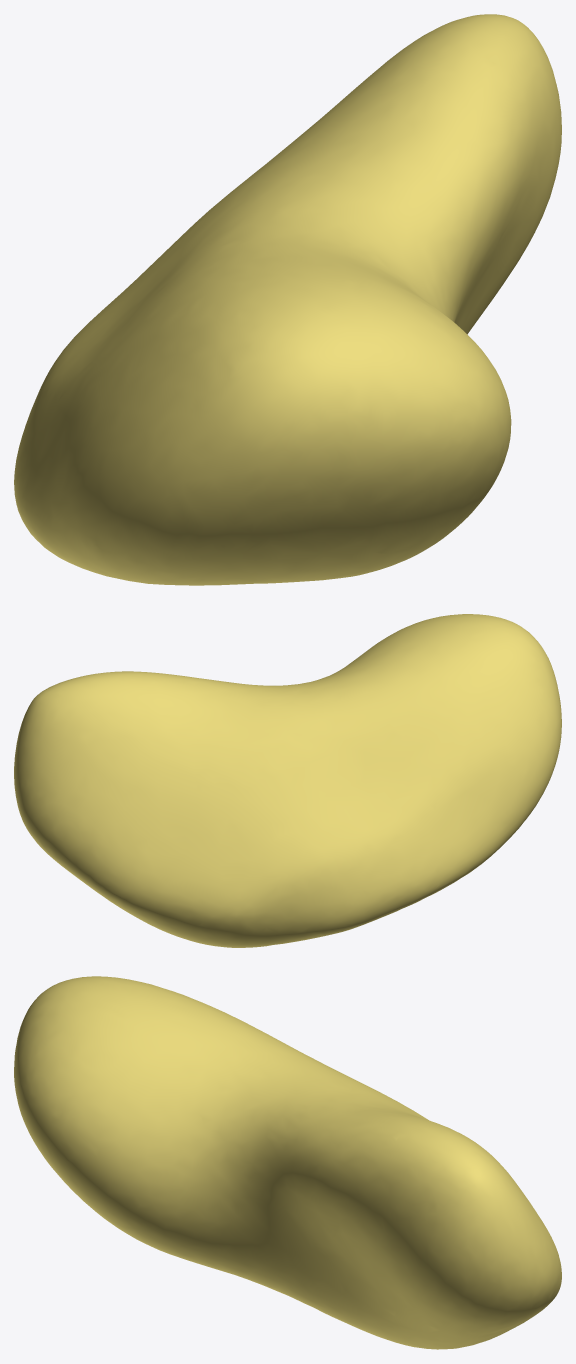
The model's file is biventral-lobule-r.glb.
3 views of the same model, one above another, from view 1: azimuth 30°, elevation 25°; view 2: azimuth 150°, elevation 25°; view 3: azimuth 270°, elevation 25° (orthographic). The views are drawn at different scales.
Visible parts, largest first — view 1: Biventral lobule.r; view 2: Biventral lobule.r; view 3: Biventral lobule.r.
Part boxes in pixels (x1,y1,x2,y2): Biventral lobule.r: [14, 14, 561, 585]; Biventral lobule.r: [14, 614, 561, 947]; Biventral lobule.r: [14, 976, 561, 1349].
Bounding box in the file's own units: 0.0345 × 0.02 × 0.0355.
